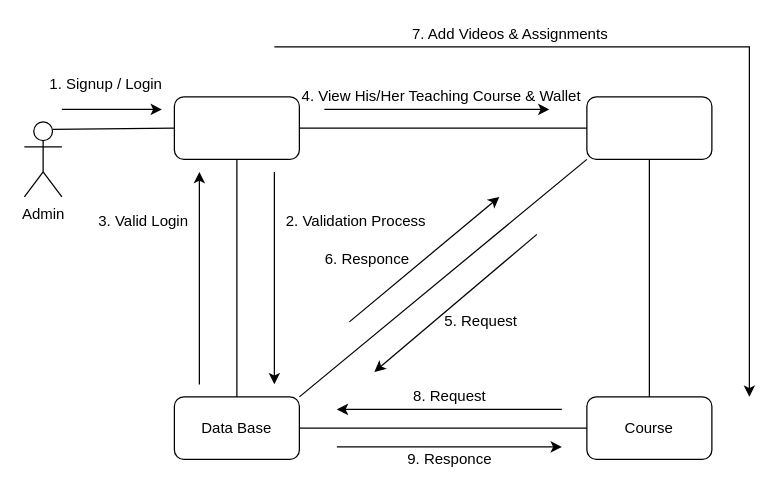
Image size: 781x493. Some labels were removed from this diagram. Here are the shapes that lost their labels. From the top down, the centre of each, then its label:
At point (236, 127): "Web Page".
At point (649, 127): "DashBoard".
